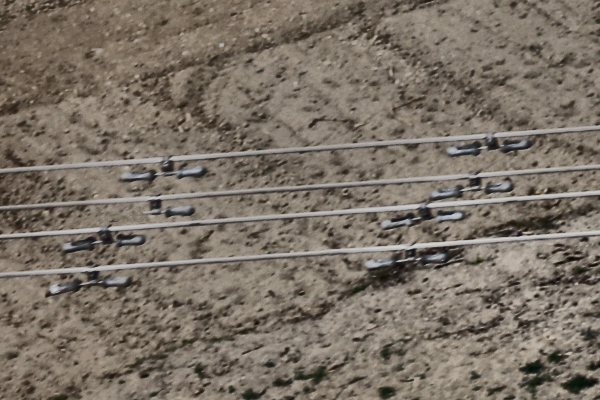damper: (362, 237, 451, 274), (57, 222, 149, 256), (115, 153, 208, 184), (426, 168, 516, 200), (46, 263, 133, 296), (443, 129, 533, 160), (380, 200, 467, 230)
damper_defect: (138, 191, 197, 218)
